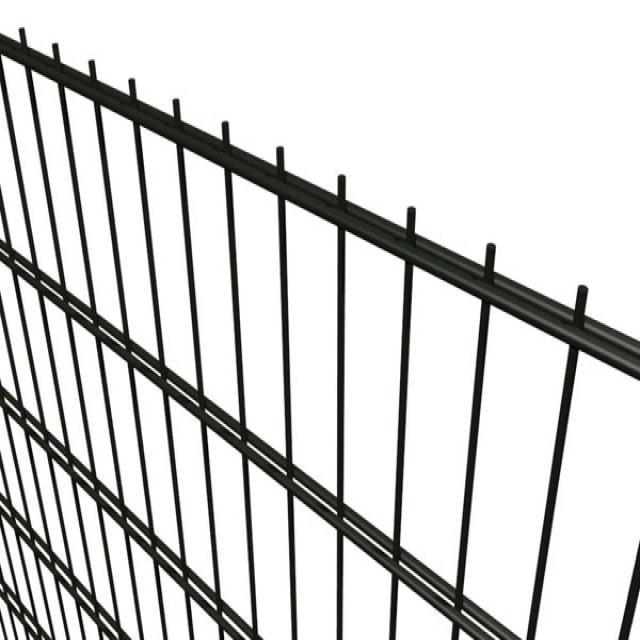fence line: (15, 40, 639, 638)
